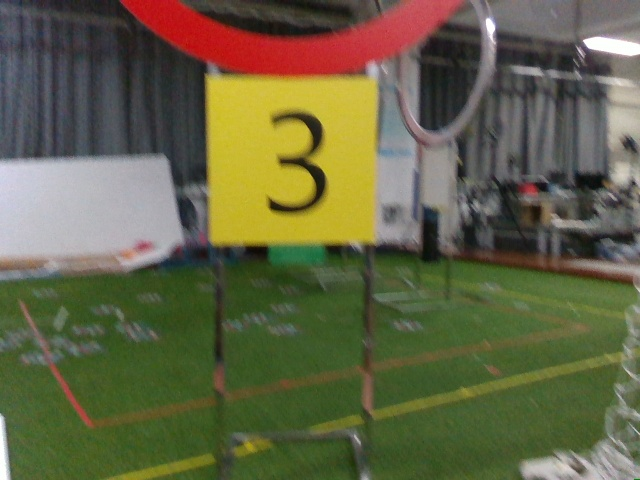target: (211, 80, 373, 242)
